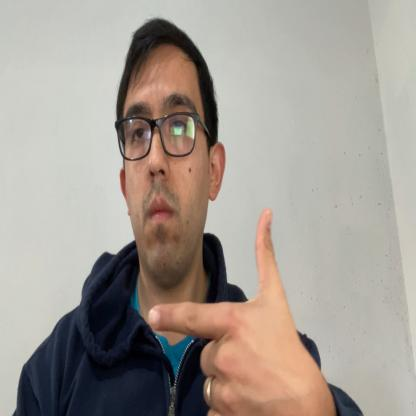G: (148, 206, 328, 416)
